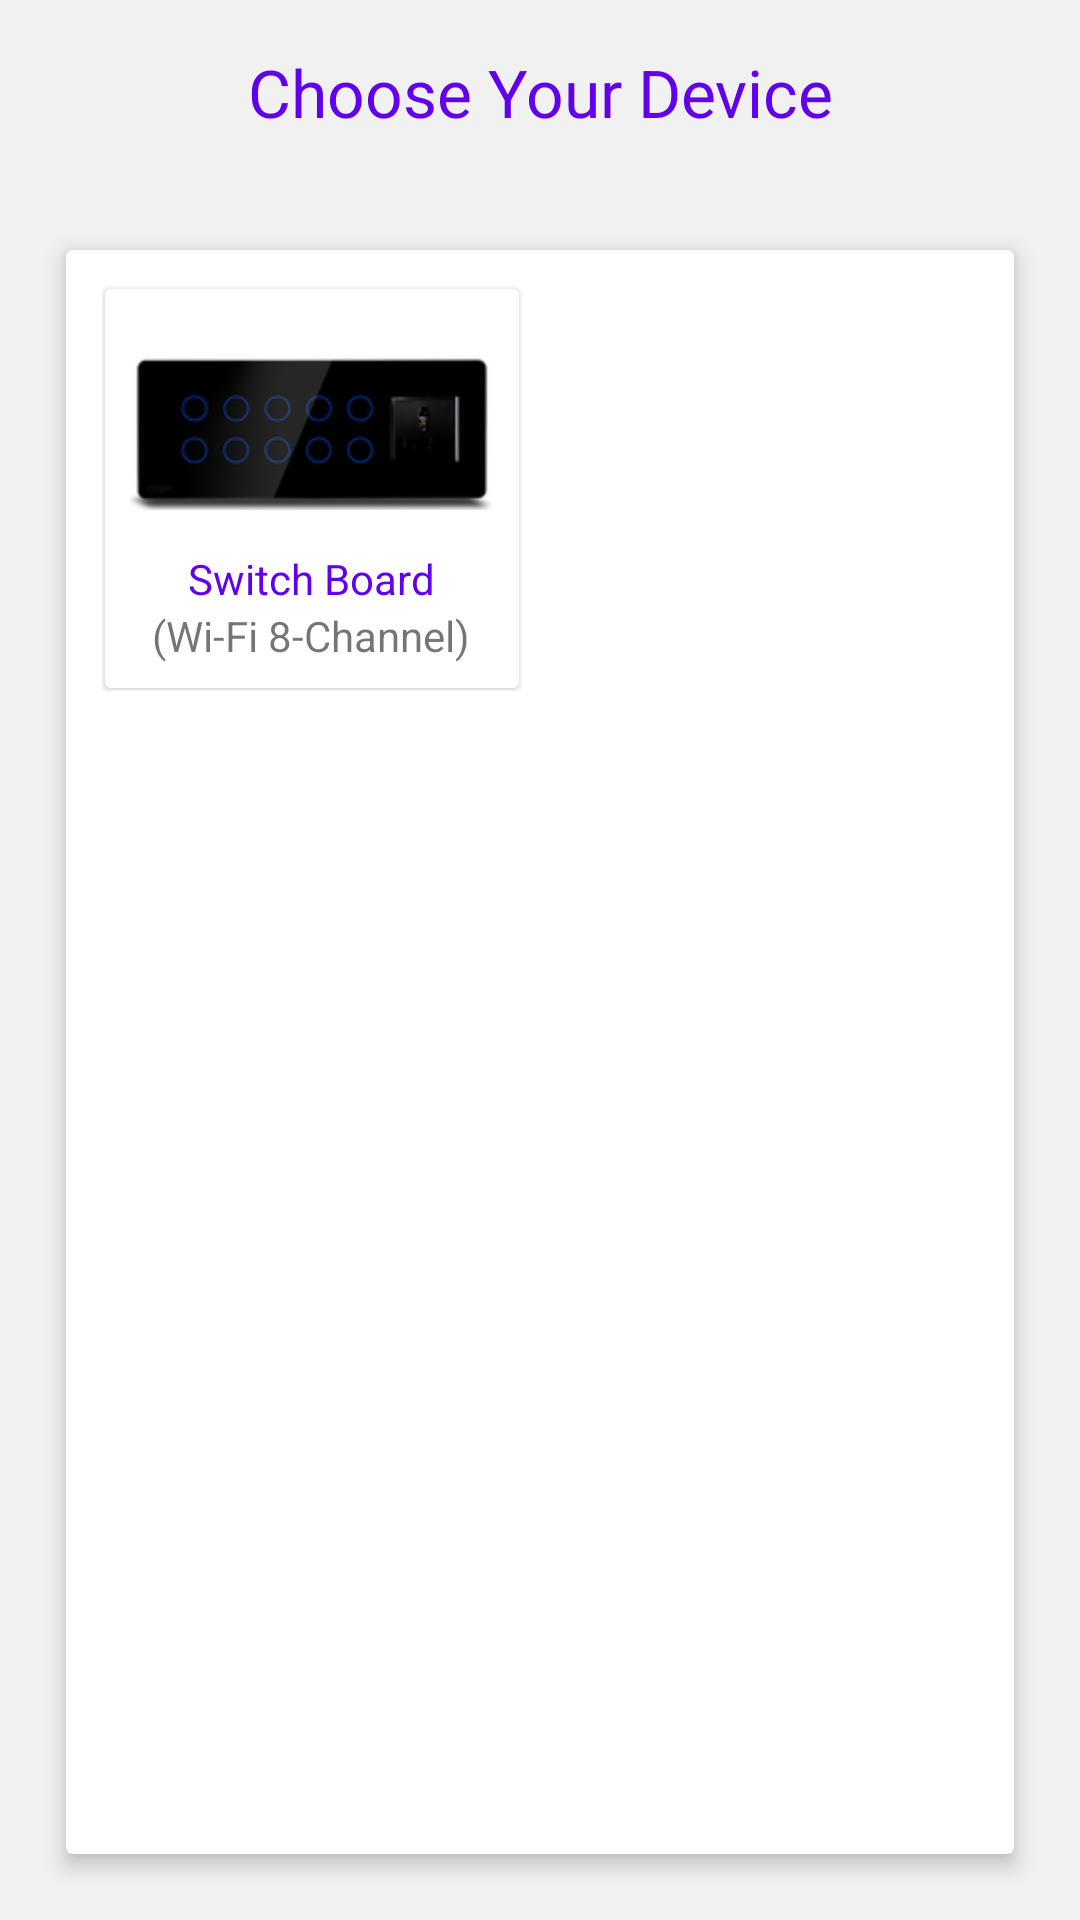

Point at icon controls on the screen. Image size 1080*1920, points as point (x, y).
smart switch: point (311, 434)
